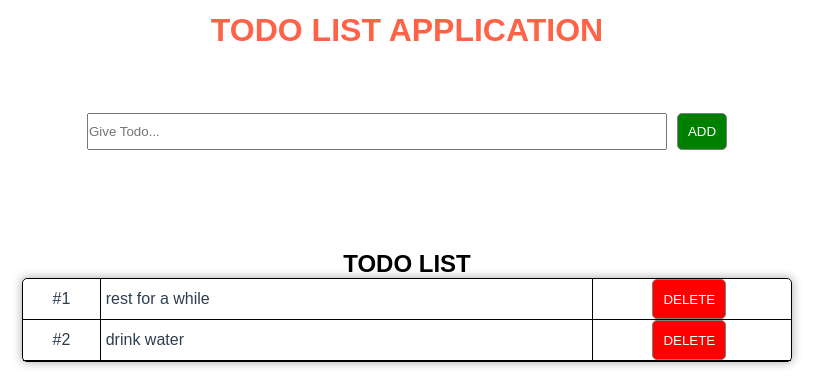
Scenario: Web Based Todo Application Entegration Test › Given TodoList with with "rest for a while" and "drink water" item in order, When I click on delete button next to "rest for a while" item, Then I should see "d
Expected: the text "rest for a while" is shown, [106, 290, 210, 307]
Expected: the text "drink water" is shown, [106, 331, 184, 348]
Step 1. Click the button with id "delete-todo-1" → (689, 299), box [652, 279, 726, 319]
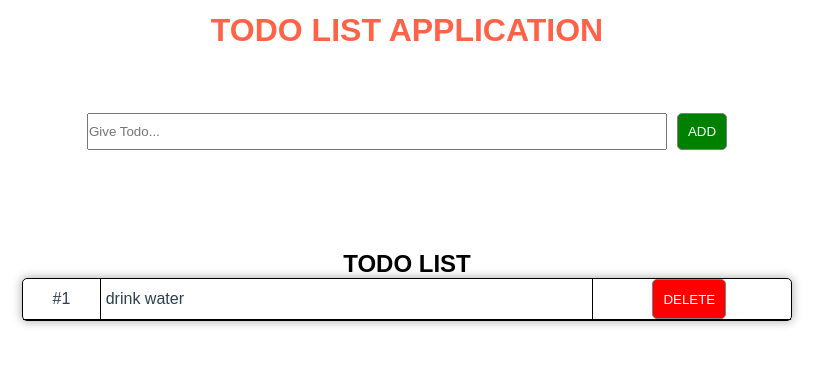
Result: the number of elements with class "todo" is 1 at [106, 290, 184, 307]
